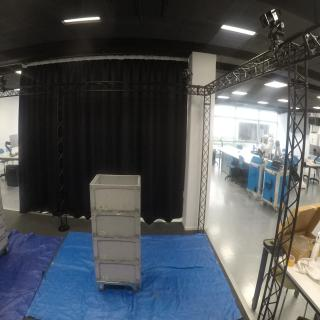Box4G: (91, 175, 145, 215), (91, 213, 144, 240), (94, 259, 143, 286), (92, 238, 144, 263)
